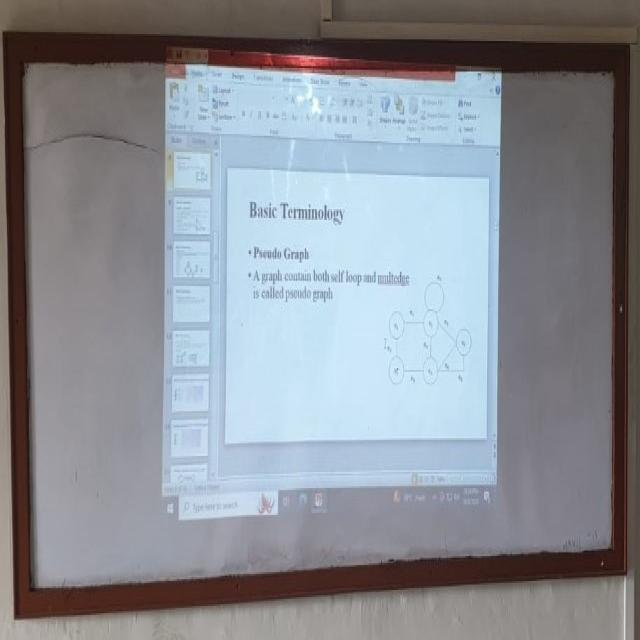Slide: (161, 45, 502, 530)
White-board: (8, 46, 621, 600)
